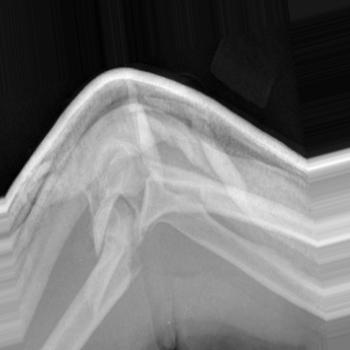Fracture: (93, 198, 148, 292)
